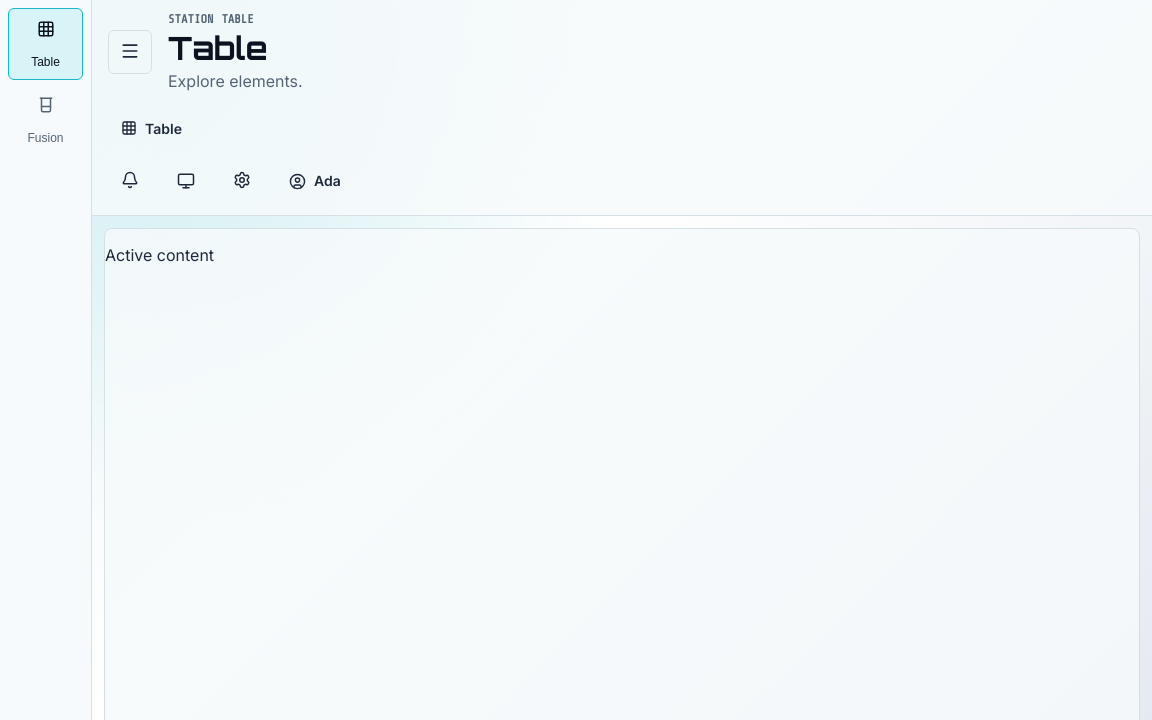
Test: AppShell › opens the mobile navigation drawer
Click the button named "Open menu": [130, 52] box [108, 30, 152, 74]
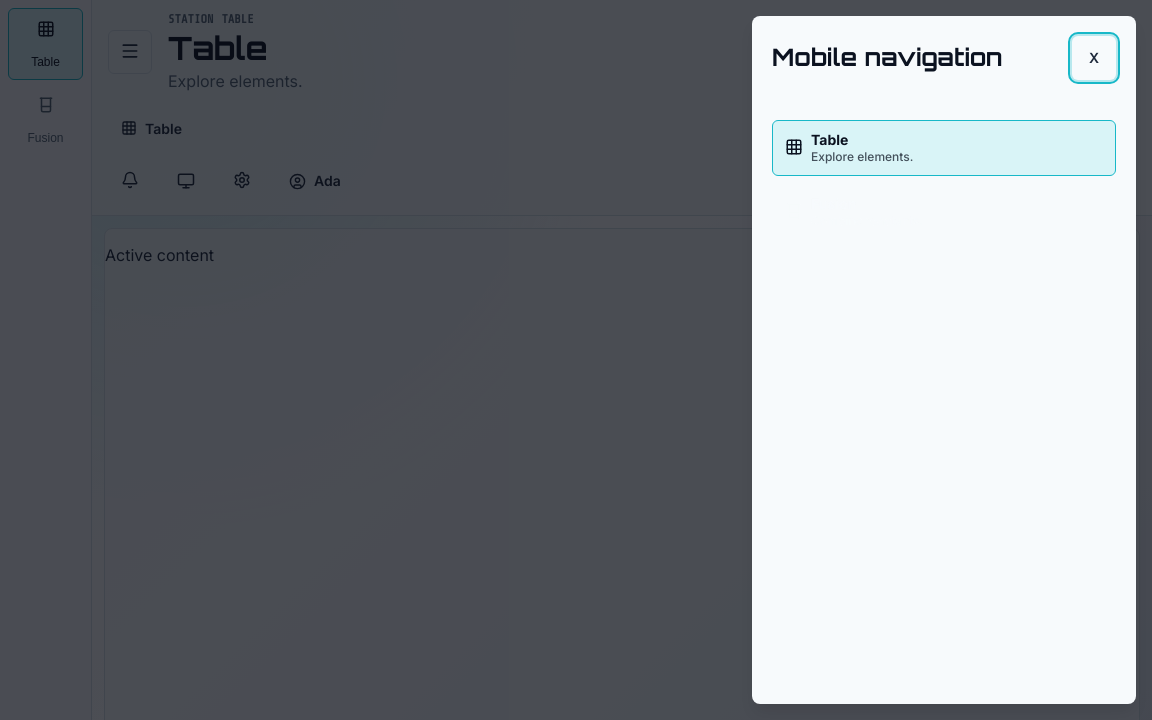
Expected: the dialog is shown, [752, 16, 1136, 704]
Expected: the heading "Mobile navigation" is shown, [772, 44, 1002, 72]
